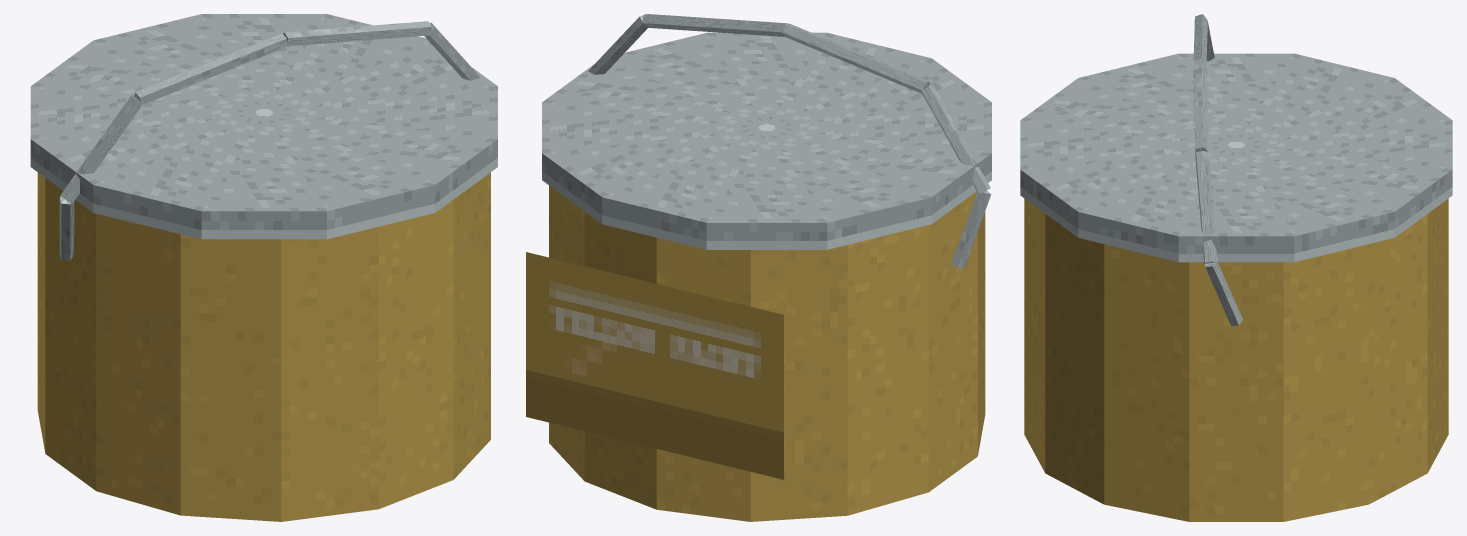
Rendered from paint_yellow.glb.
3 renders of one model, left to right at view 1: azimuth 30°, elevation 25°; view 2: azimuth 150°, elevation 25°; view 3: azimuth 270°, elevation 25°, orthographic. The views are drawn at different scales.
Visible parts, largest first — view 1: block_body, block_paint bucket lid, block_wire carry bail 2, block_wire carry bail 3, block_wire carry bail 1, block_wire carry bail 4, block_wire carry bail 0; view 2: block_body, block_paint bucket lid, block_paint label, block_wire carry bail 2, block_wire carry bail 3, block_wire carry bail 1, block_wire carry bail 0, block_wire carry bail 4; view 3: block_body, block_paint bucket lid, block_wire carry bail 4, block_wire carry bail 3, block_wire carry bail 5, block_wire carry bail 2.
Part boxes in pixels (x1,y1,x2,y2): block_body: (37,172,490,521); block_paint bucket lid: (30,14,497,239); block_wire carry bail 2: (134,33,287,104); block_wire carry bail 3: (283,21,431,46); block_wire carry bail 1: (60,95,142,203); block_wire carry bail 4: (424,22,479,80); block_wire carry bail 0: (59,196,74,260); block_body: (549,185,985,521); block_paint bucket lid: (542,32,991,249); block_paint label: (526,252,783,479); block_wire carry bail 2: (782,23,929,93); block_wire carry bail 3: (642,14,788,36); block_wire carry bail 1: (921,84,990,193); block_wire carry bail 0: (951,191,991,268); block_wire carry bail 4: (588,15,647,74); block_body: (1024,198,1448,521); block_paint bucket lid: (1020,53,1452,262); block_wire carry bail 4: (1195,151,1217,264); block_wire carry bail 3: (1193,58,1208,152); block_wire carry bail 5: (1205,260,1242,326); block_wire carry bail 2: (1193,14,1207,63).
Bounding box in the file's own units: 0.2967 × 0.2663 × 0.276.
Materials: 2 (2 with a texture image).
